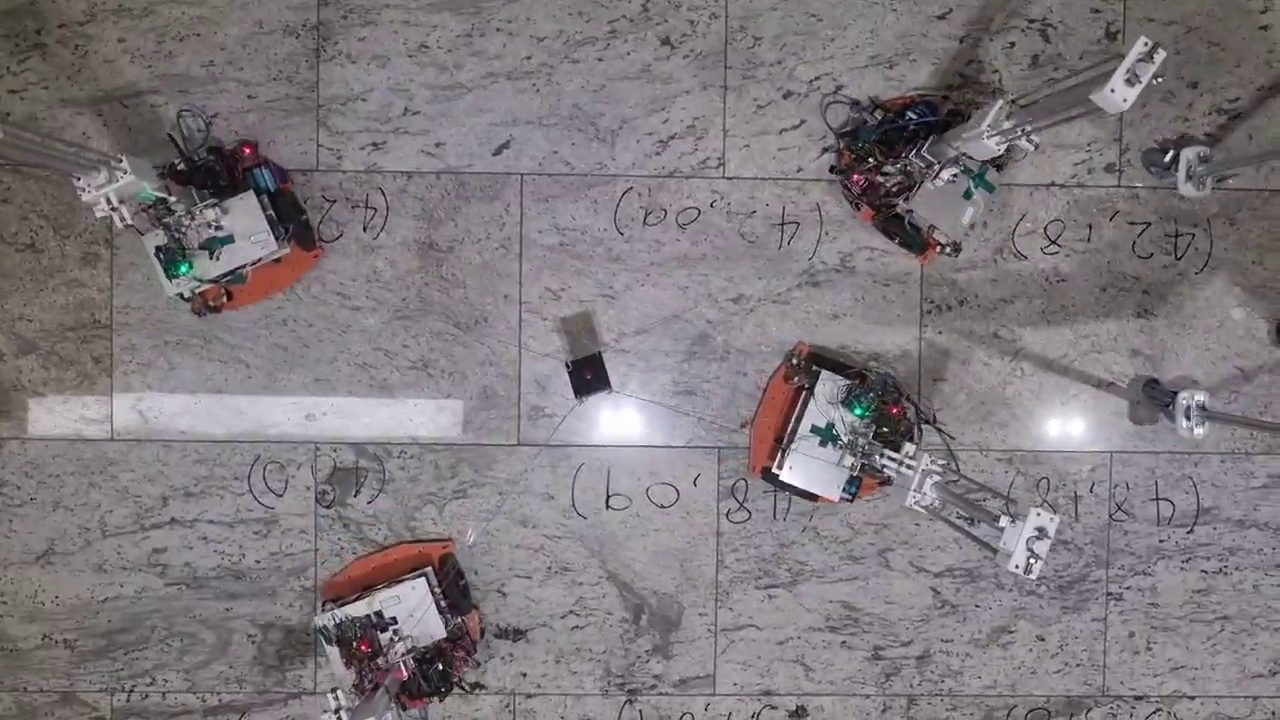e0: (564, 351, 614, 401)
r1: (760, 353, 866, 503)
r2: (871, 109, 996, 255)
r3: (154, 188, 316, 302)
r4: (318, 551, 472, 663)
y_+_axis_vector: (718, 447, 1111, 452)
y_-_axis_vector: (317, 443, 719, 448)
